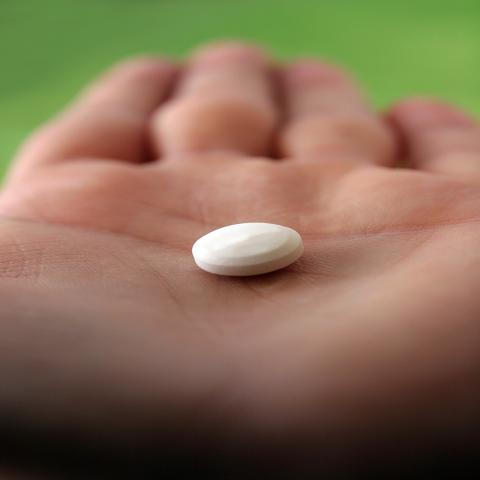hands: (167, 200, 315, 291)
